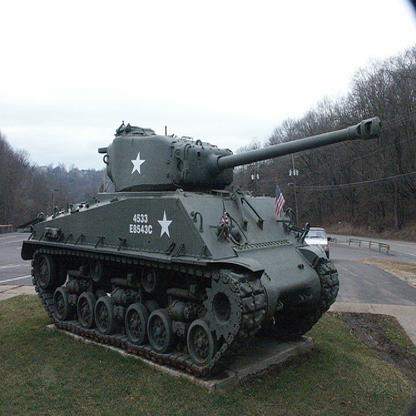Tank: (21, 106, 389, 381)
